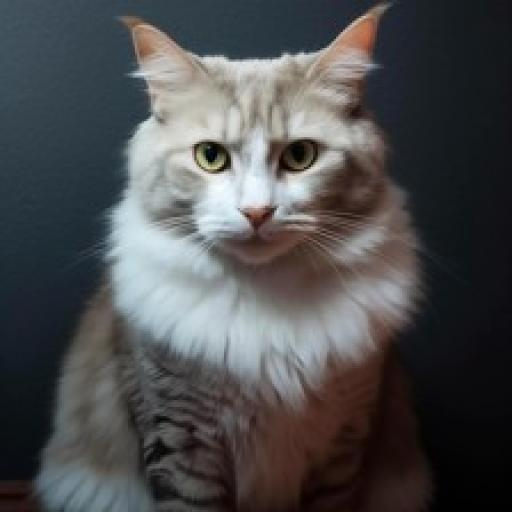cat: (23, 7, 425, 512)
